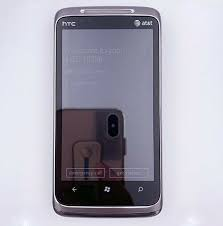htc: (50, 5, 164, 218)
